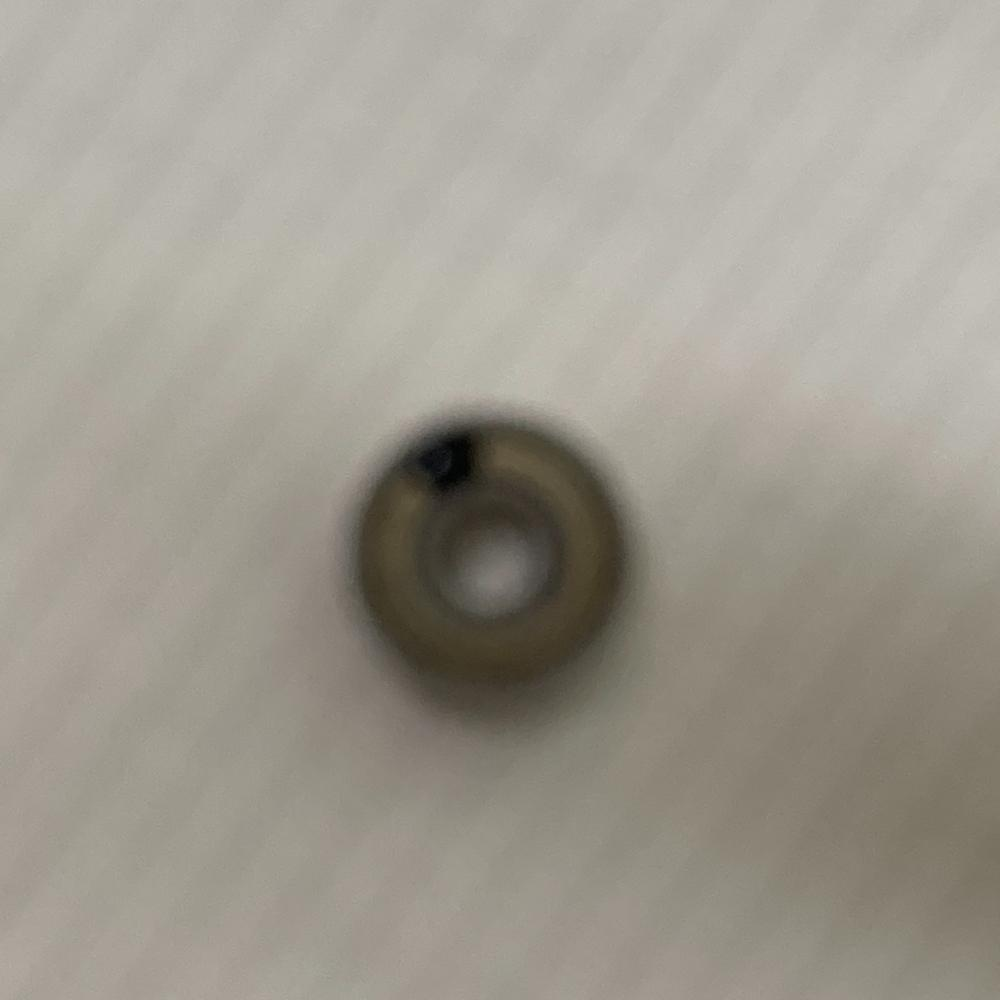ball_bearing_oil_stain: (349, 414, 630, 693)
